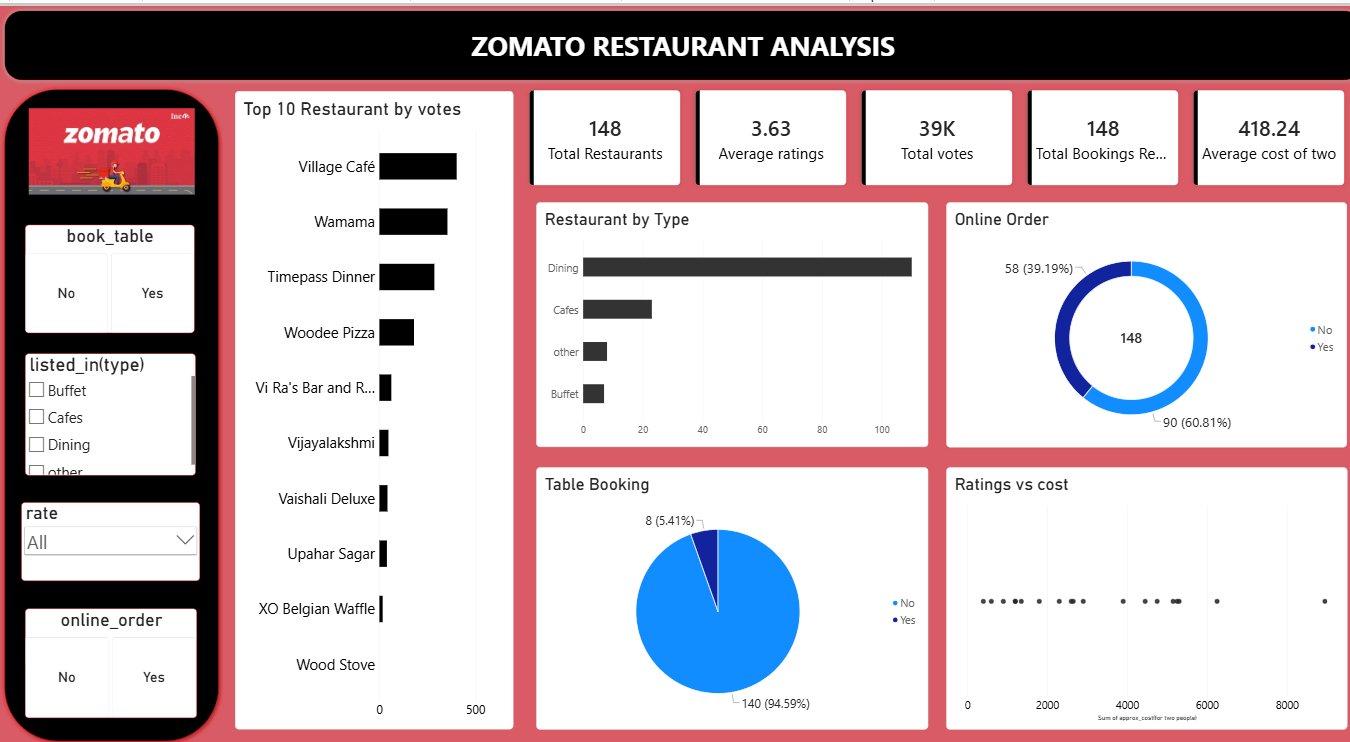

The page's visual inventory and layout, read from the dashboard file:
{"tool":"powerbi","page":{"name":"Page 1","canvas":[2700,1478],"ordinal":0},"visuals":[{"type":"shape","box":[0,0,2732.5,157.5],"z":0},{"type":"cardVisual","fields":{"Data":["CountNonNull(Zomato-data-.name)","Avg(Zomato-data-.rate)","Sum(Zomato-data-.votes)","CountNonNull(Zomato-data-.book_table)","Avg(Zomato-data-.approx_cost(for two people))"]},"box":[1047.5,157.5,1652.5,212.5],"z":1000},{"type":"clusteredBarChart","title":"Restaurant by Type","fields":{"Category":["Zomato-data-.listed_in(type)"],"Y":["CountNonNull(Zomato-data-.name)"]},"box":[1072.5,392.5,784.2,489.8],"z":2000},{"type":"donutChart","title":"Online Order","fields":{"Category":["Zomato-data-.online_order"],"Y":["CountNonNull(Zomato-data-.name)"]},"box":[1892.5,392.5,801.9,490.7],"z":3000},{"type":"shape","box":[0,157.5,446.3,1322],"z":4000},{"type":"scatterChart","title":"Ratings vs cost","fields":{"Category":["Zomato-data-.rate"],"X":["Sum(Zomato-data-.approx_cost(for two people))"]},"box":[1892.5,922.5,802.3,524.8],"z":5000},{"type":"clusteredBarChart","title":"Top 10 Restaurant by votes","fields":{"Category":["Zomato-data-.name"],"Y":["Sum(Zomato-data-.votes)"]},"box":[470,170,556.7,1276.7],"z":6000},{"type":"pieChart","title":"Table Booking","fields":{"Category":["Zomato-data-.book_table"],"Y":["CountNonNull(Zomato-data-.name)"]},"box":[1072.5,922.5,784.2,524.8],"z":7000},{"type":"advancedSlicerVisual","fields":{"Values":["Zomato-data-.book_table"]},"box":[50,437.5,339,217.1],"z":8000},{"type":"slicer","fields":{"Values":["Zomato-data-.listed_in(type)"]},"box":[50,695,341.5,243.9],"z":9000},{"type":"slicer","fields":{"Values":["Zomato-data-.rate"]},"box":[42.5,992.5,357.5,157.5],"z":11000},{"type":"image","box":[57.5,170,331.7,241.5],"z":11001},{"type":"advancedSlicerVisual","fields":{"Values":["Zomato-data-.online_order"]},"box":[50,1205,343.9,219.5],"z":11002}]}

Visuals, with their boxes in screenshot pixels (x1, y1, x2, y2), scaled from the page's 2700x1478 canvas onto the 1350x742 screenshot:
shape: box=[0, 0, 1349, 79]
cardVisual - CountNonNull(Zomato-data-.name) x Avg(Zomato-data-.rate): box=[524, 79, 1349, 186]
"Restaurant by Type" clusteredBarChart: box=[536, 197, 928, 443]
"Online Order" donutChart: box=[946, 197, 1347, 443]
shape: box=[0, 79, 223, 741]
"Ratings vs cost" scatterChart: box=[946, 463, 1347, 727]
"Top 10 Restaurant by votes" clusteredBarChart: box=[235, 85, 513, 726]
"Table Booking" pieChart: box=[536, 463, 928, 727]
advancedSlicerVisual - Zomato-data-.book_table: box=[25, 220, 194, 329]
slicer - Zomato-data-.listed_in(type): box=[25, 349, 196, 471]
slicer - Zomato-data-.rate: box=[21, 498, 200, 577]
image: box=[29, 85, 195, 207]
advancedSlicerVisual - Zomato-data-.online_order: box=[25, 605, 197, 715]
